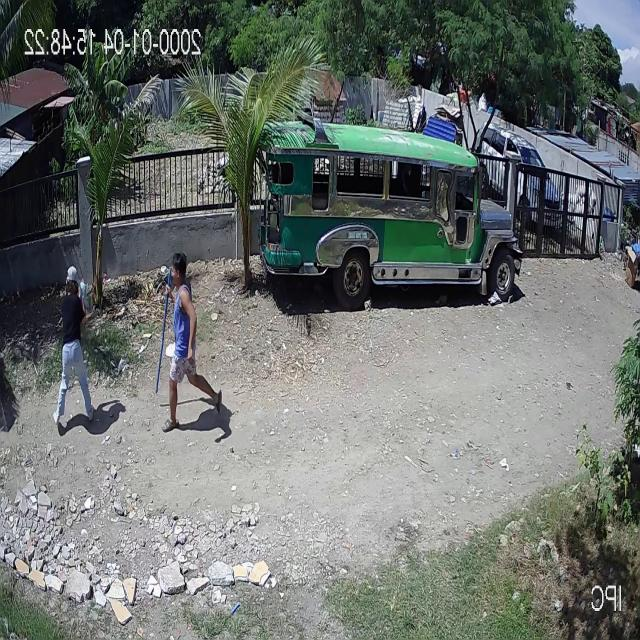running: (157, 254, 222, 432), (54, 266, 94, 426)
